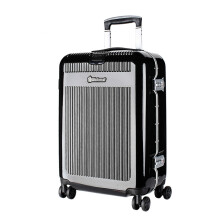luggage: (56, 15, 173, 210)
